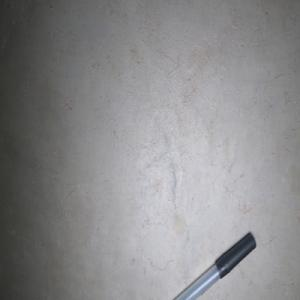Pen: (174, 232, 256, 300)
